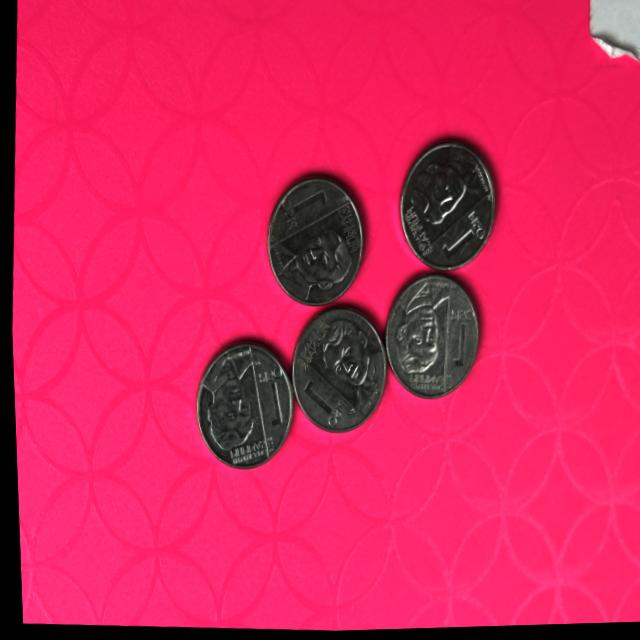1_New_Front: (277, 185, 337, 237), (248, 360, 289, 429), (434, 220, 490, 266), (440, 313, 472, 378), (302, 380, 345, 428)
